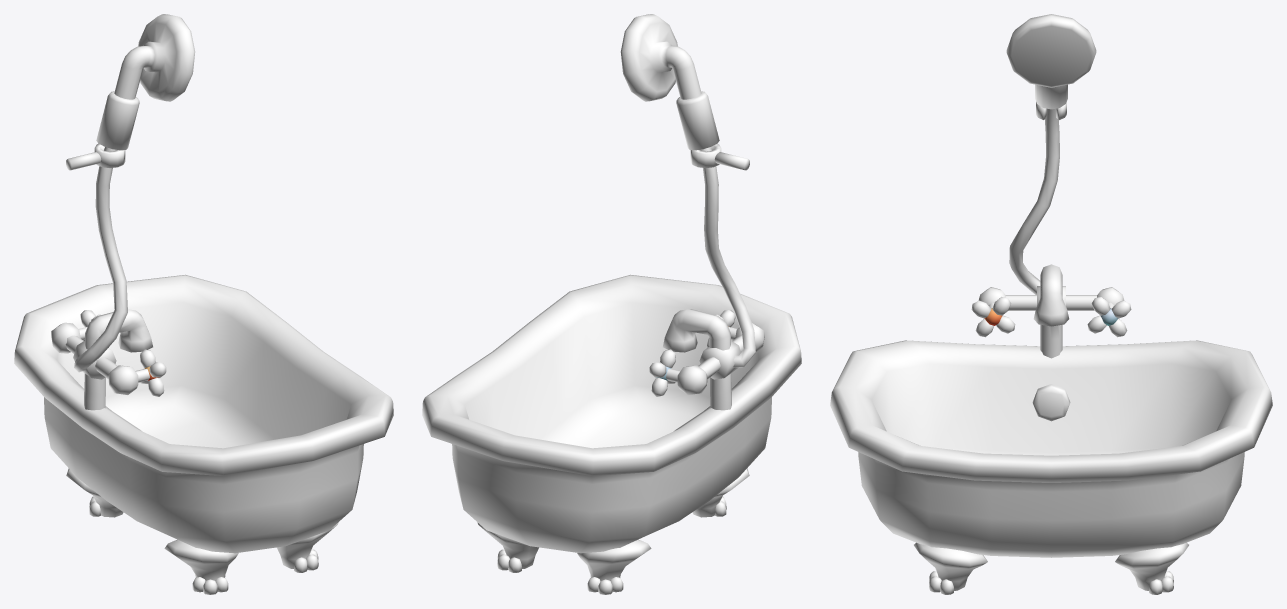
File: Tub.fbx
3 renders of one model, left to right at view 1: azimuth 30°, elevation 25°; view 2: azimuth 150°, elevation 25°; view 3: azimuth 270°, elevation 25°, orthographic.
Parts seen in each view (by area): view 1: Bathtub; view 2: Bathtub; view 3: Bathtub.
Part boxes in pixels (box(x1,y1,x2,y2)): Bathtub: box(14, 14, 393, 594); Bathtub: box(422, 14, 801, 594); Bathtub: box(830, 14, 1272, 594).
Size of the model in its own units: 3.45 by 1.76 by 2.59.
